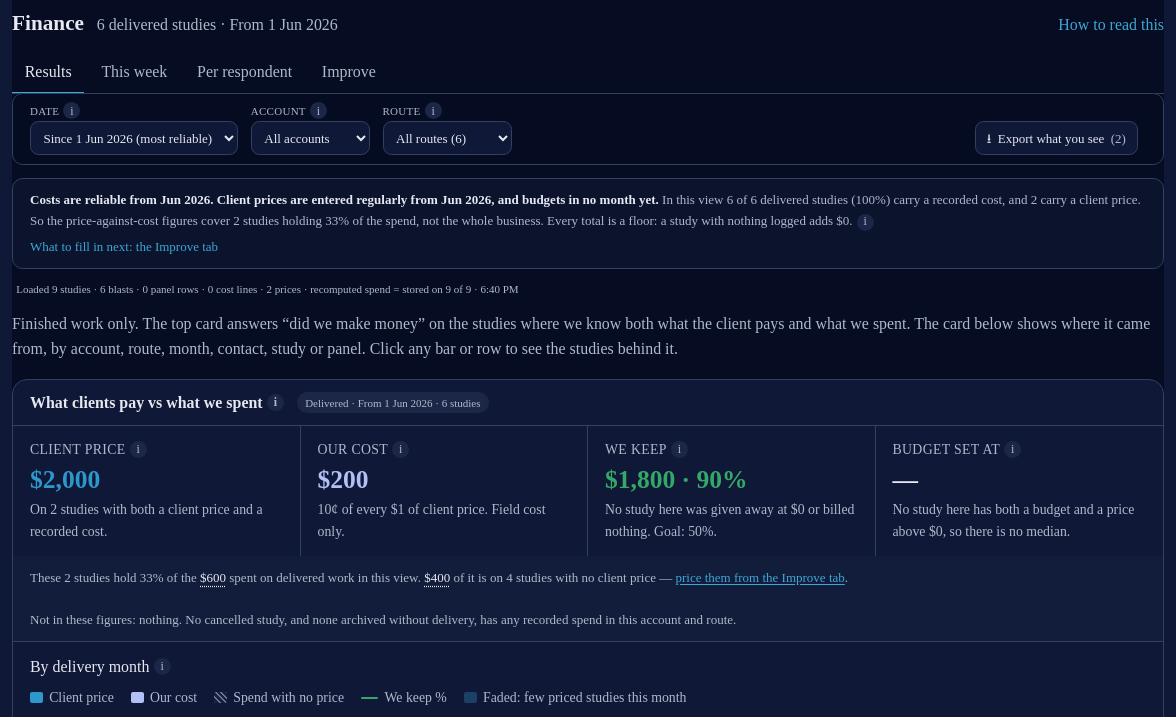
Test: Export what you see › downloads even when the log fails, and says the export was not logged
Click the button "⭳ Export what you see (2)": (1056, 138) [975,121,1138,155]
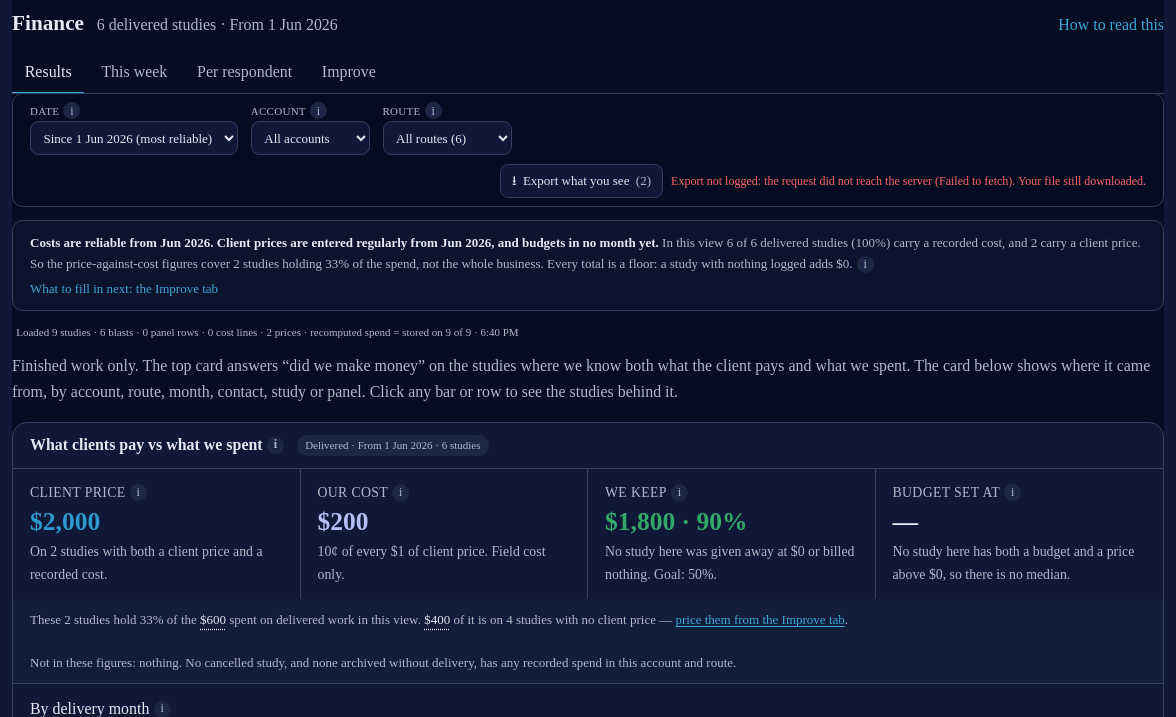
Now the text "Export not logged: the request did not reach the server" is shown, box [671,174,1146,188]
